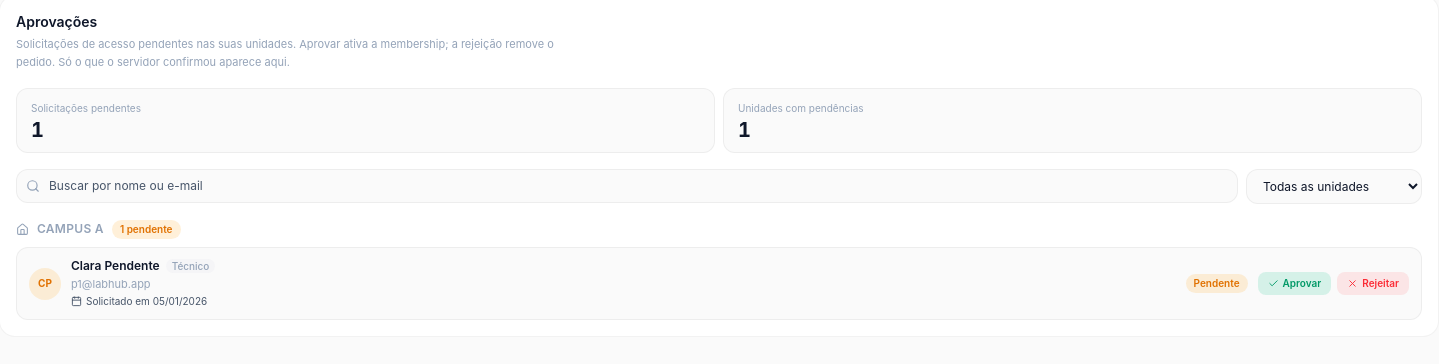
CoordinatorApprovalsTab — fila de aprovações READ-ONLY sobre o escopo (V1) › com filtro sem correspondência → EmptyState de filtro sem resultado
In the search field with test id "approvals-search": [627, 186] box [16,169,1238,203], type "zzz"
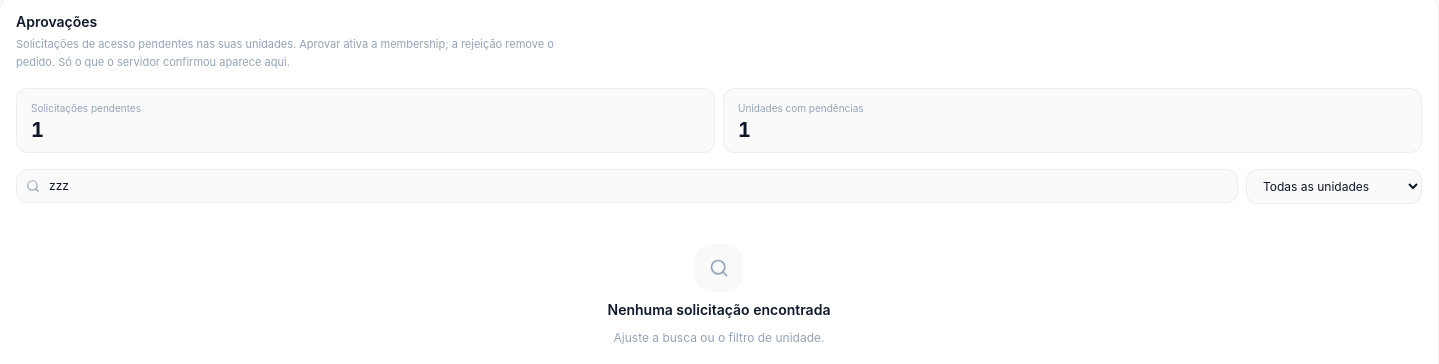
Check: the heading "Nenhuma solicitação encontrada" is shown, box [608,300,830,320]
Check: the text "Ajuste a busca ou o filtro de unidade." is shown, box [614,328,824,347]
